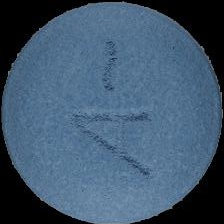63629-3141: (0, 0, 224, 224)
